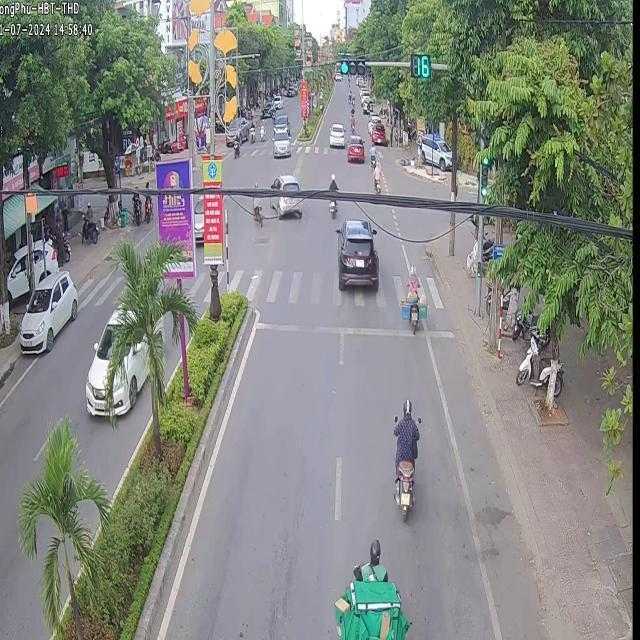car: (17, 269, 76, 351), (83, 309, 118, 414), (334, 218, 377, 289), (110, 340, 147, 412), (268, 194, 300, 216), (346, 131, 363, 160), (269, 174, 298, 189), (327, 120, 343, 146)
green_light: (411, 52, 429, 79), (338, 61, 366, 75), (481, 153, 488, 200)
motobike: (333, 538, 409, 638), (392, 398, 418, 520), (398, 265, 426, 329)
stop_line: (255, 320, 410, 346)
